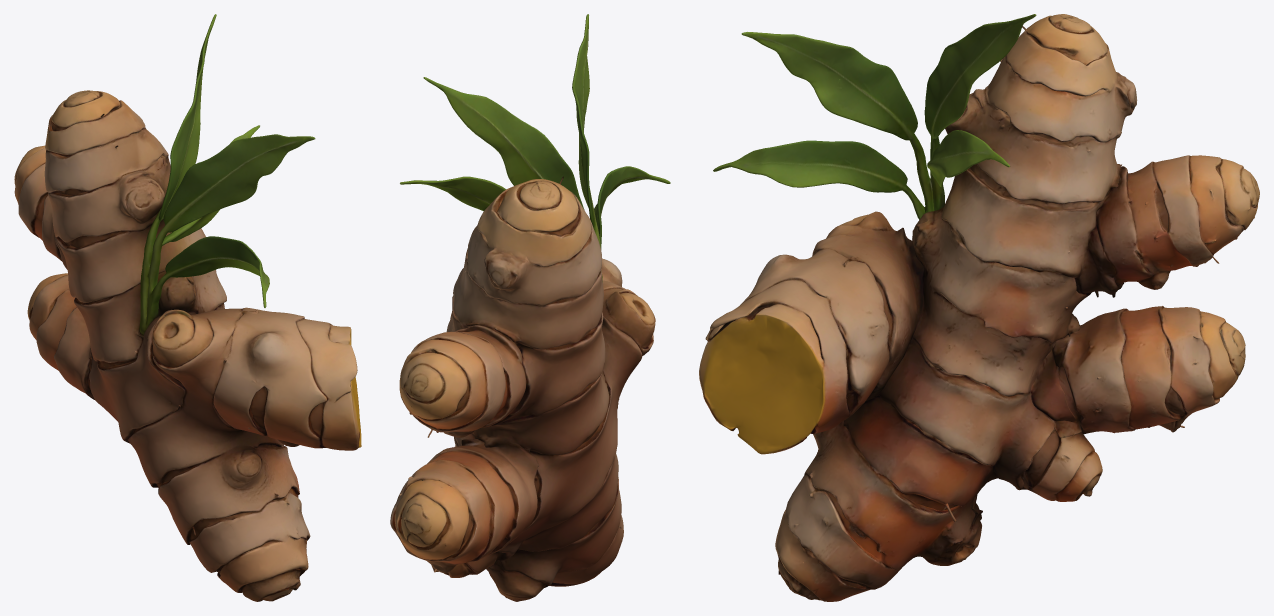
File: kunyit.glb
The picture shows the model from 3 angles, left to right: view 1: azimuth 30°, elevation 25°; view 2: azimuth 150°, elevation 25°; view 3: azimuth 270°, elevation 25°; orthographic projection. The views are drawn at different scales.
Visible parts, largest first — view 1: world; view 2: world; view 3: world.
Part boxes in pixels (<box>): world: <box>14,14,361,601</box>; world: <box>390,14,670,601</box>; world: <box>699,14,1259,601</box>.
Size of the model in its own units: 0.4301 by 0.9998 by 0.8385.
1 material, 1 textured.
